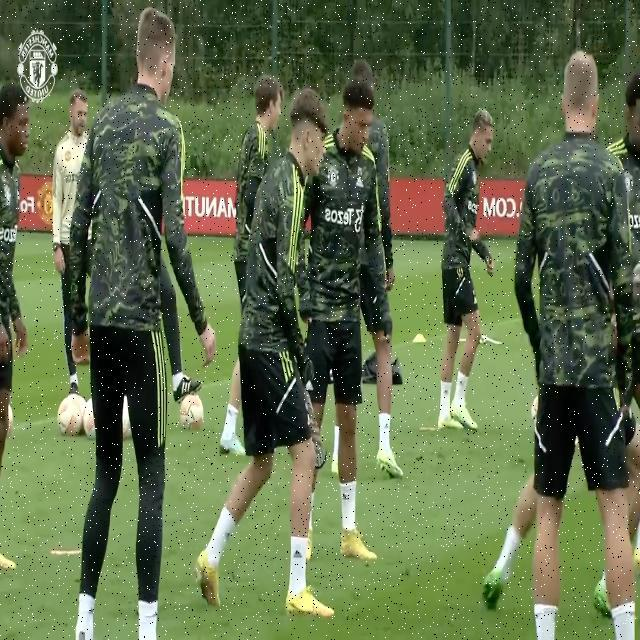Adidas: (292, 548, 304, 562), (305, 377, 314, 391), (355, 175, 364, 188), (342, 489, 348, 503)
